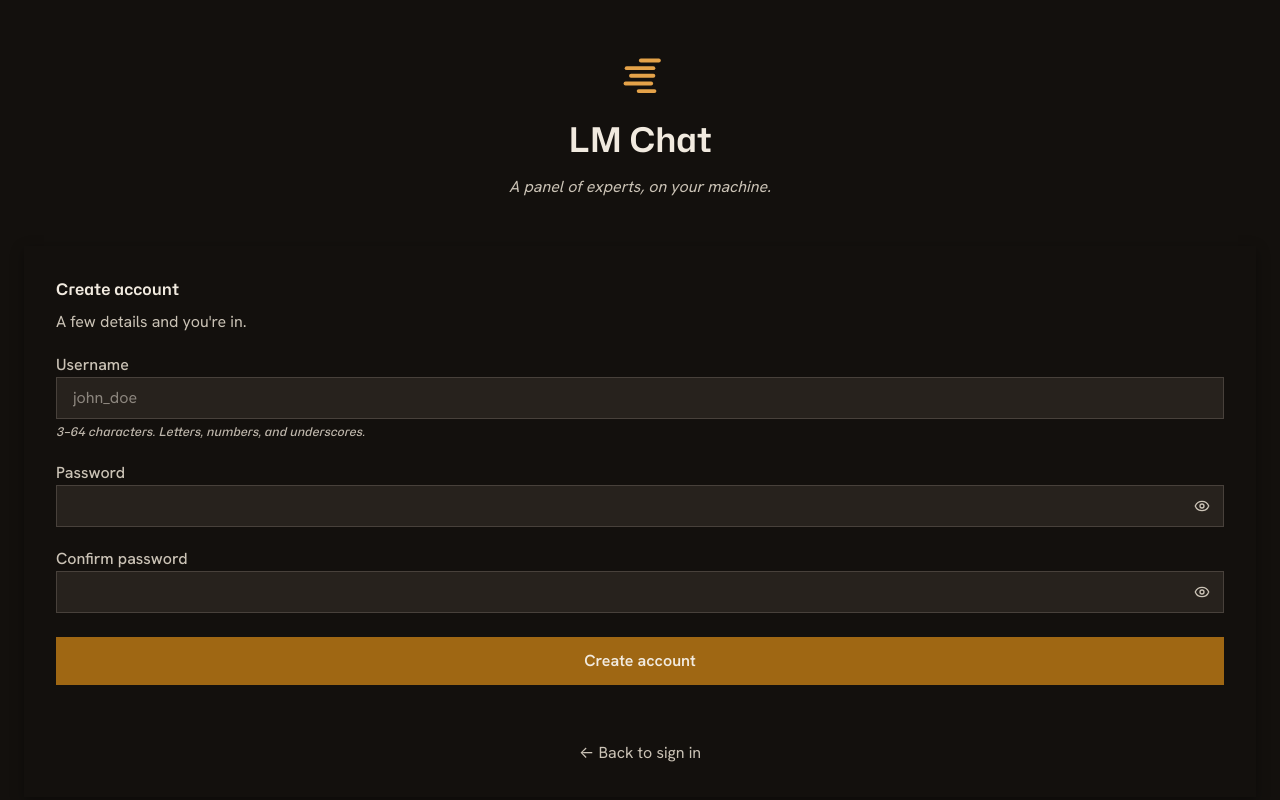
it: Register › surfaces the server detail on 400 (username taken)
Step 1. Type "alice" into the field labelled "Username" → (640, 398), box [56,378,1224,420]
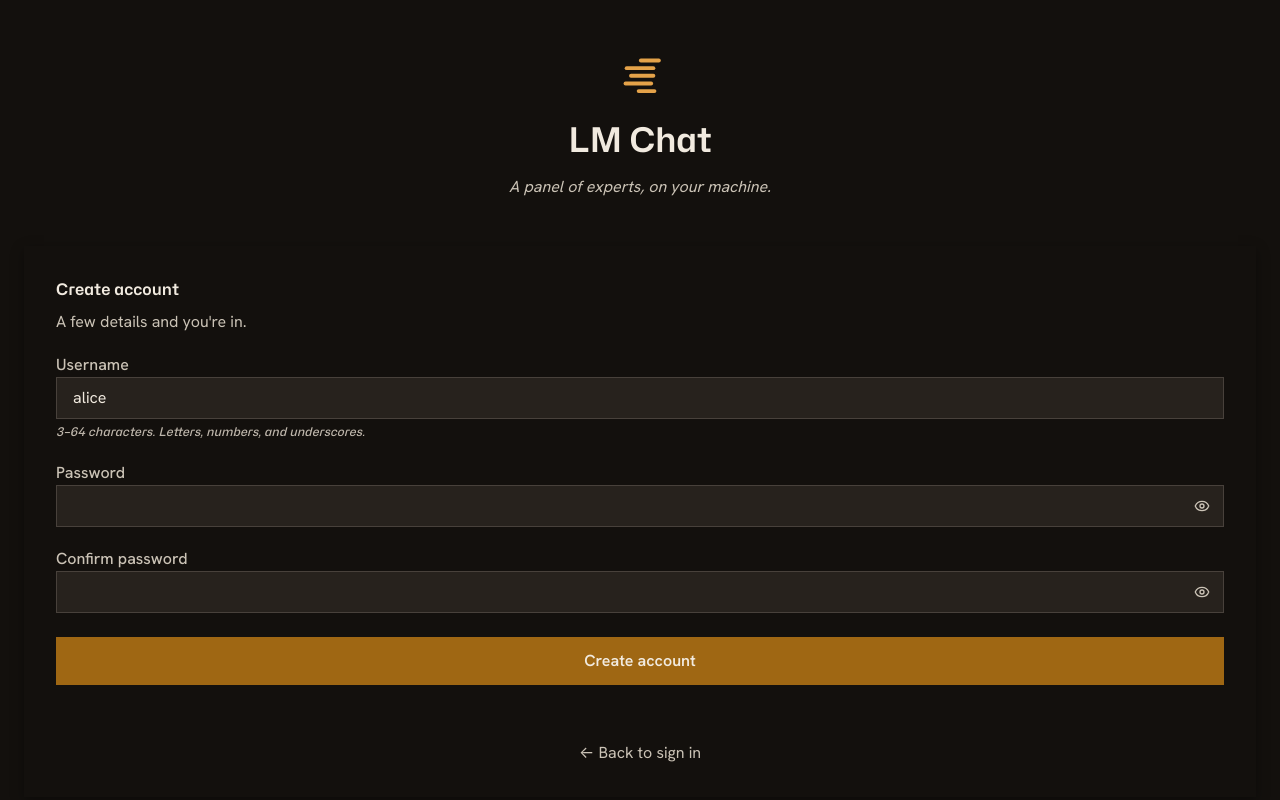
Step 2. Type "pw12345678" into the password field labelled "Password" → (640, 506), box [56,485,1224,527]
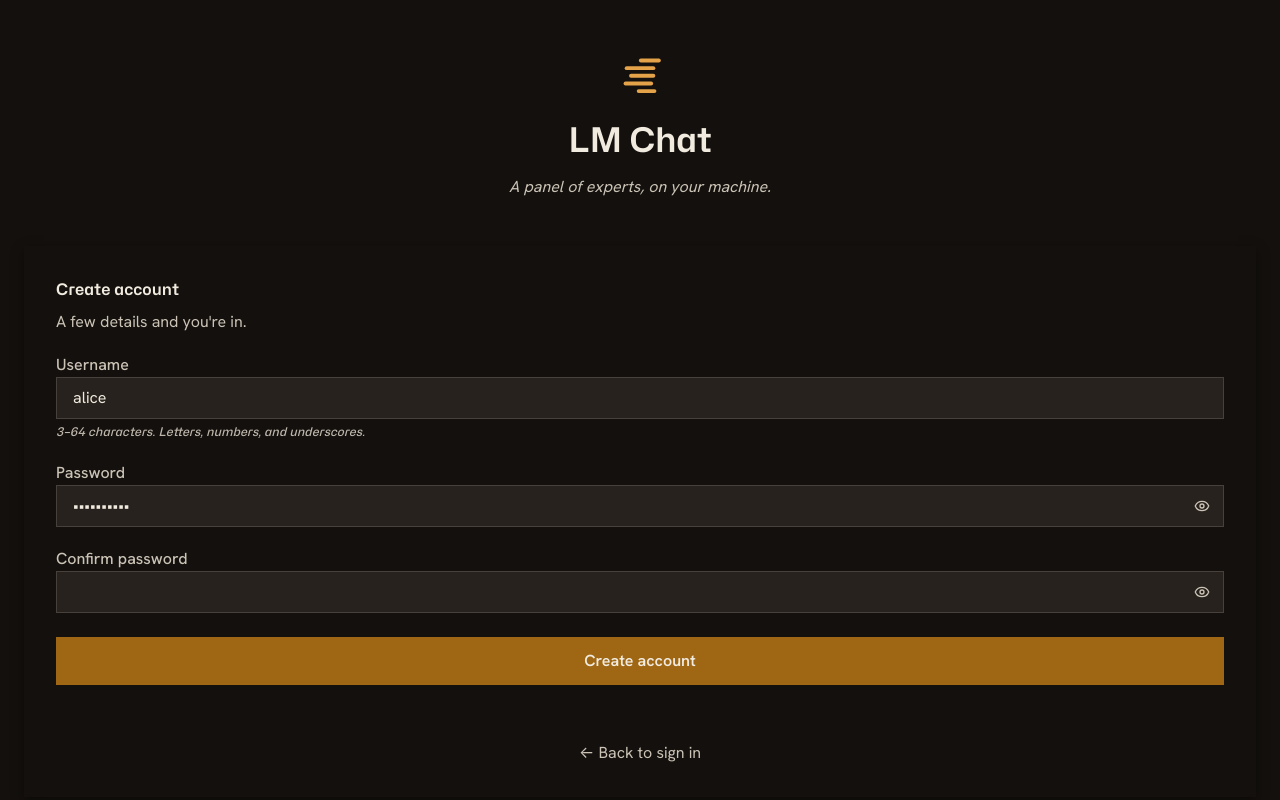
Step 3. Type "pw12345678" into the password field labelled "Confirm password" → (640, 592), box [56,571,1224,613]
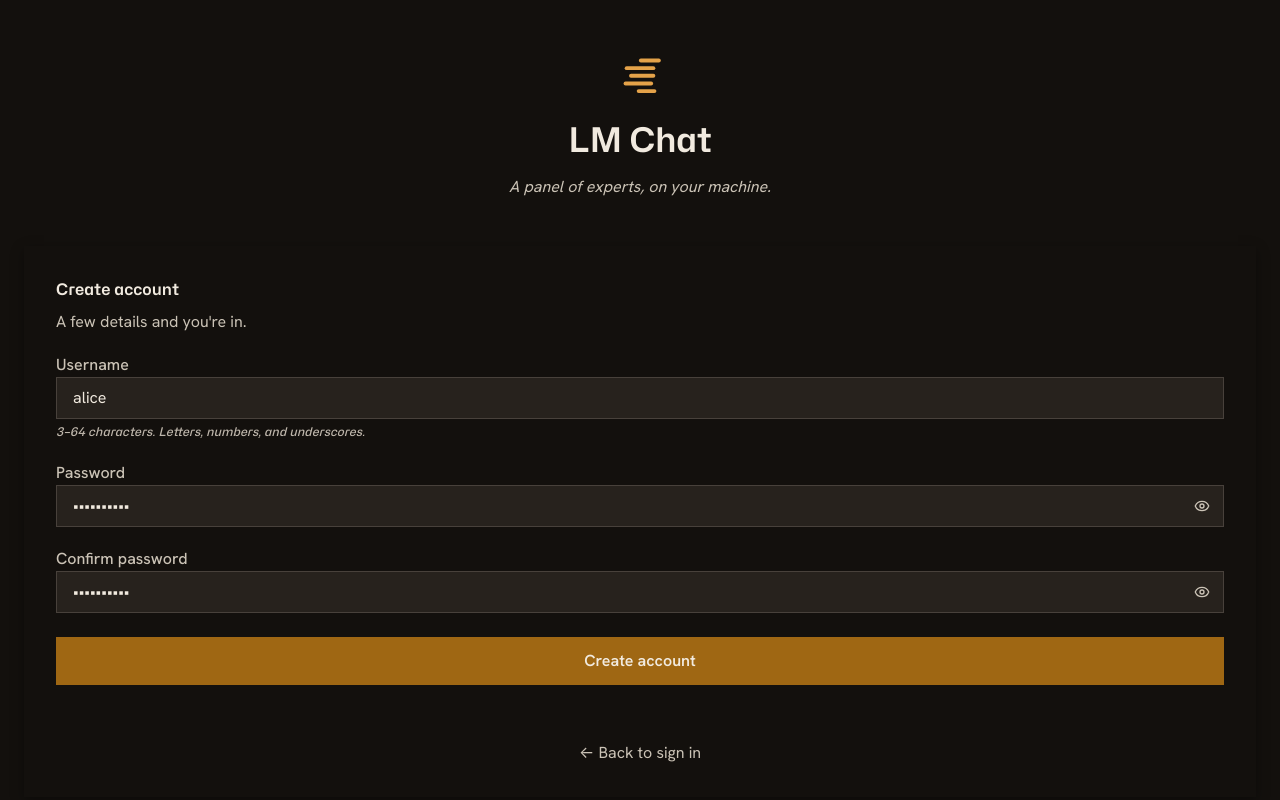
Step 4. Click the button "Create account" → (640, 661), box [56,637,1224,685]
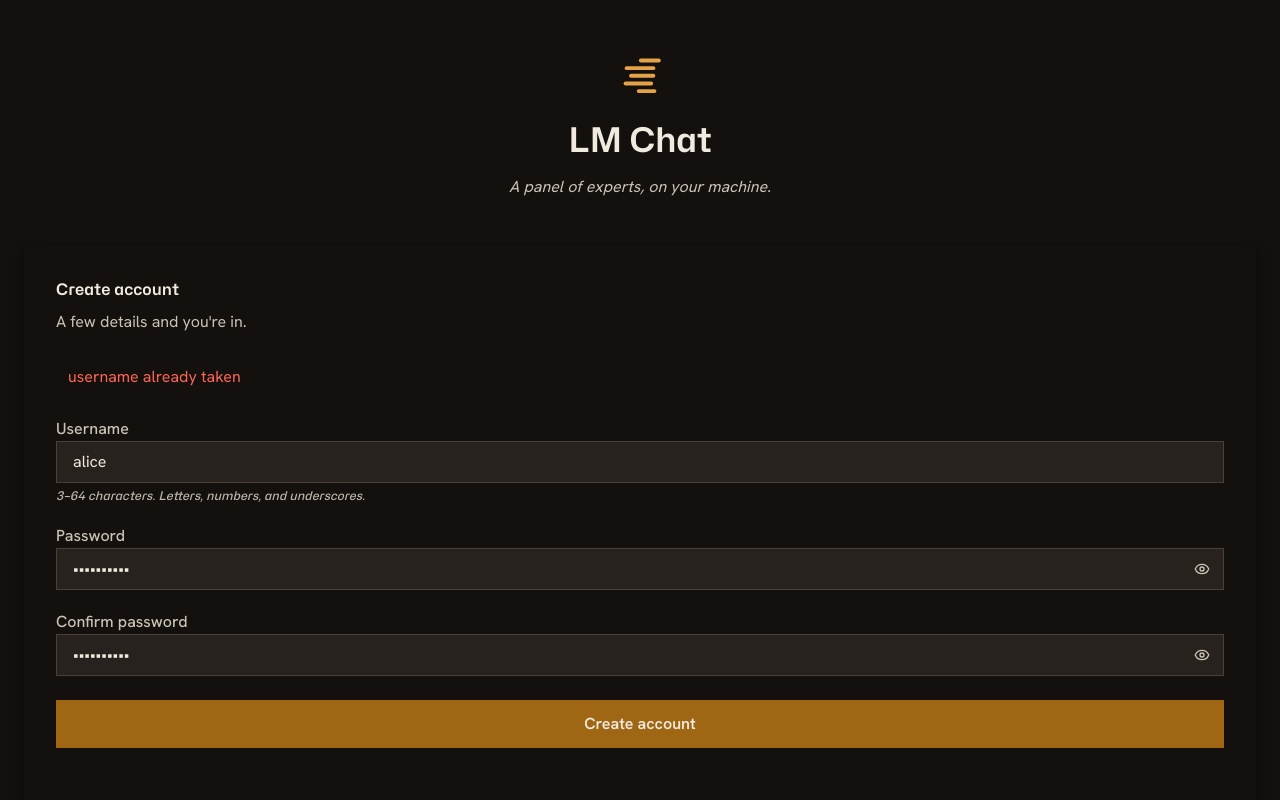
Result: the message reads "username already taken" at [68,366,241,388]
